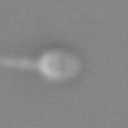normal: (1, 53, 38, 73)
